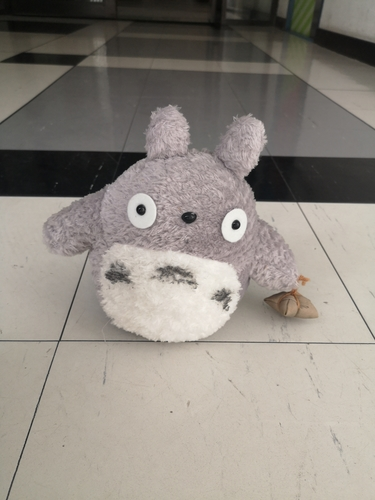totoro: (39, 102, 325, 347)
